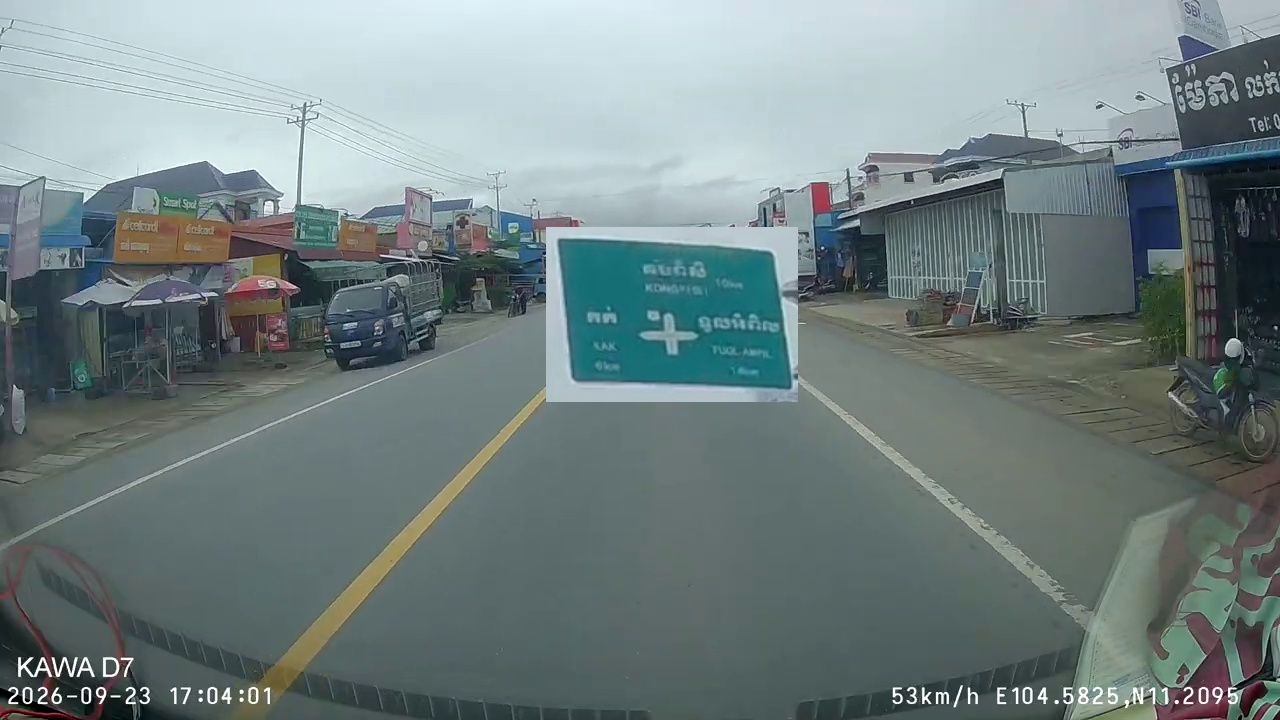direction_sign: (546, 227, 798, 402)
